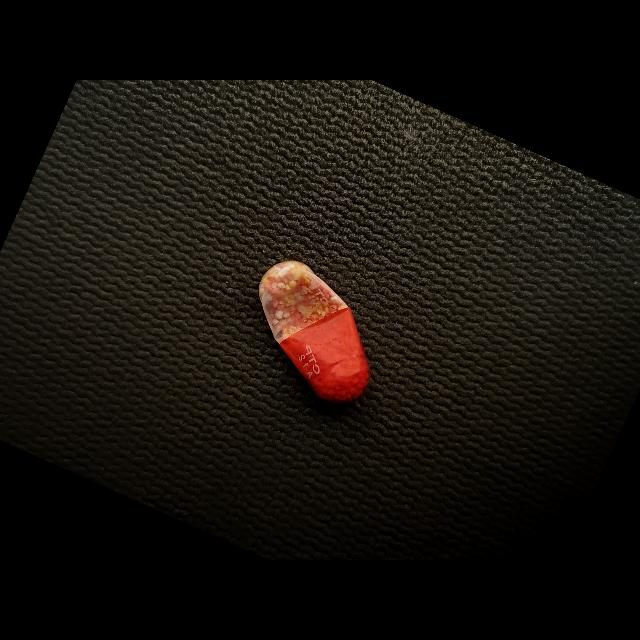Defective Capsule: (259, 261, 370, 403)
